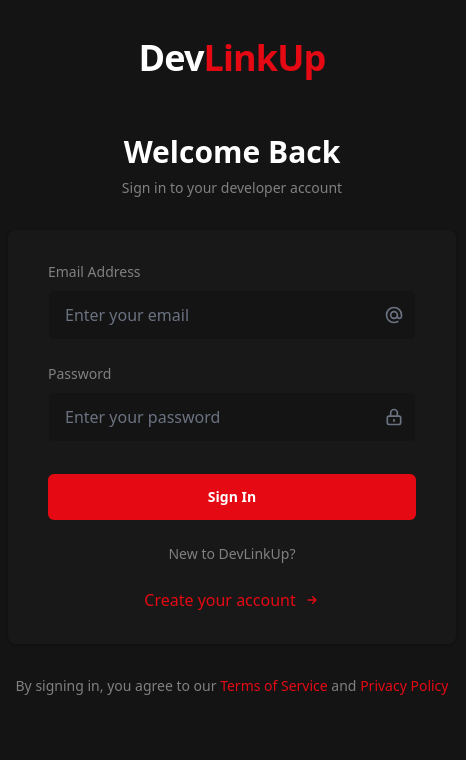
Test: Login page › shows error message when login fails
Step 1. Type "alice@example.com" into the field with placeholder "Enter your email" → (232, 315), box [48,290,416,340]
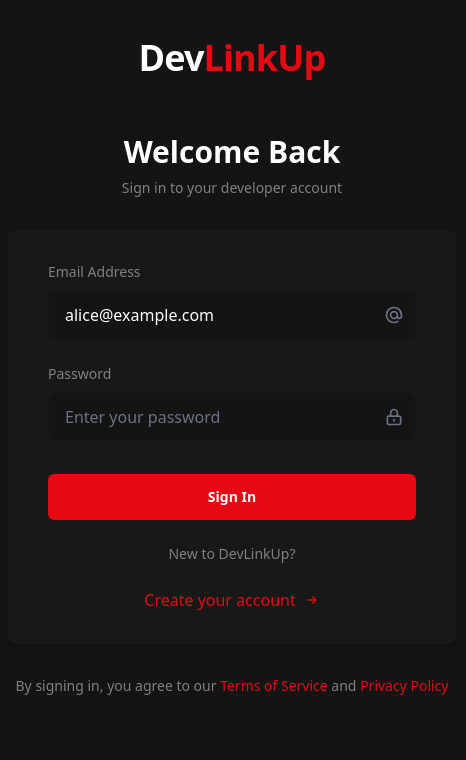
Step 2. Type "wrongpassword" into the password field with placeholder "Enter your password" → (232, 417), box [48,392,416,442]
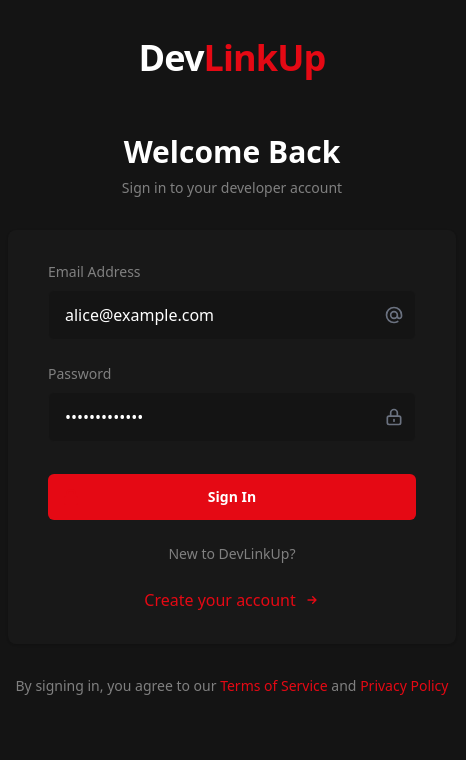
Step 3. Submit the form "Sign In", box [48,262,416,612]
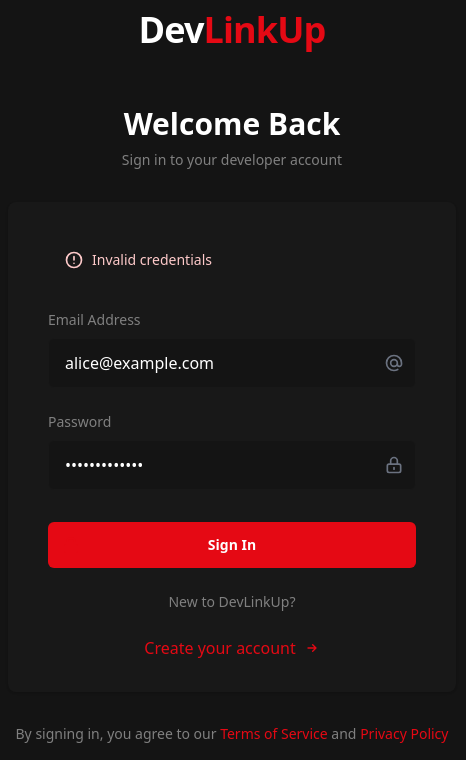
Expected: the text "Invalid credentials" is shown, [92,250,212,270]
